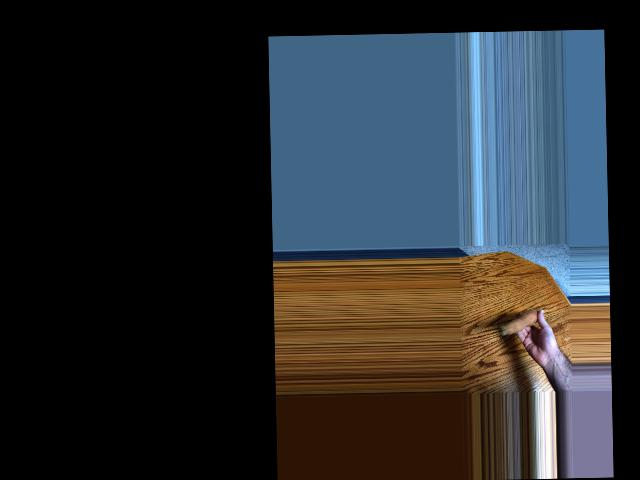sweet_potato: (500, 308, 542, 337)
